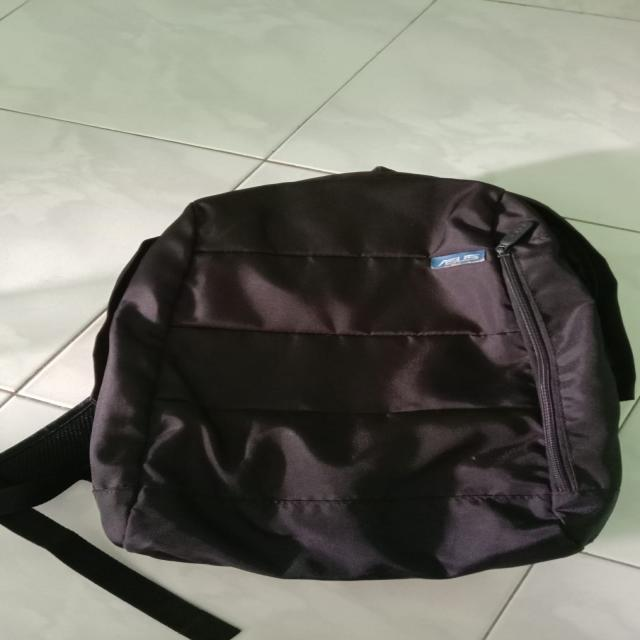tas: (45, 121, 640, 627)
